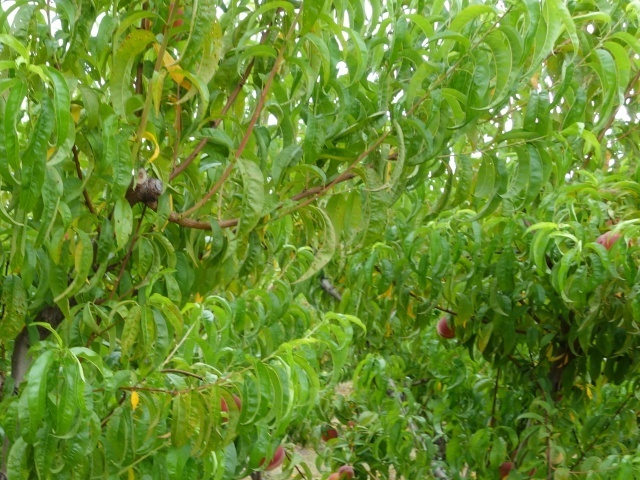peach: (258, 439, 288, 474), (595, 225, 630, 253), (433, 314, 461, 341), (317, 420, 343, 446)
